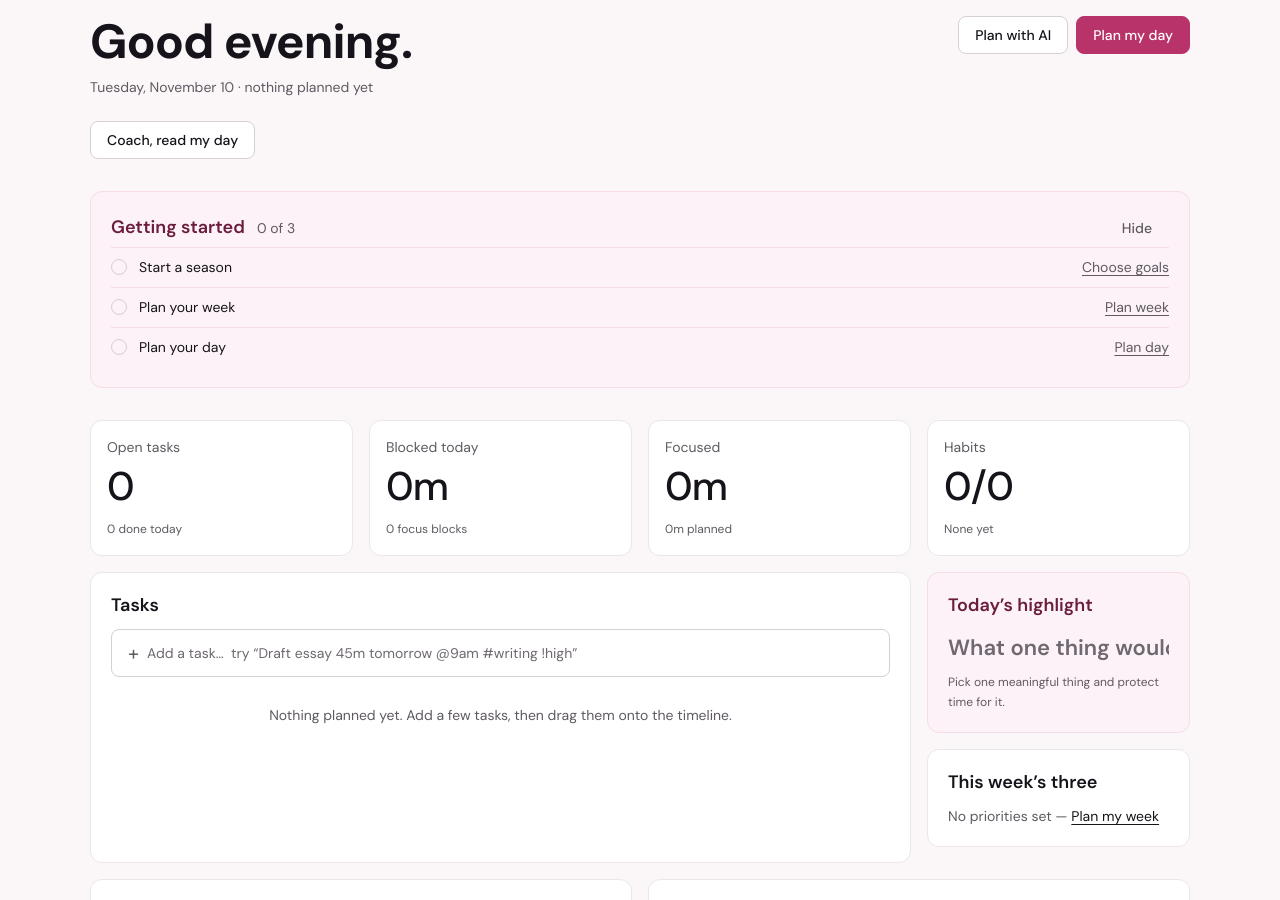
coach with a key › stores and renders the daily note after a click
The width and height of the screenshot is (1280, 900).
Click the button "Coach, read my day" at (173, 140), box 90,121 -> 255,159
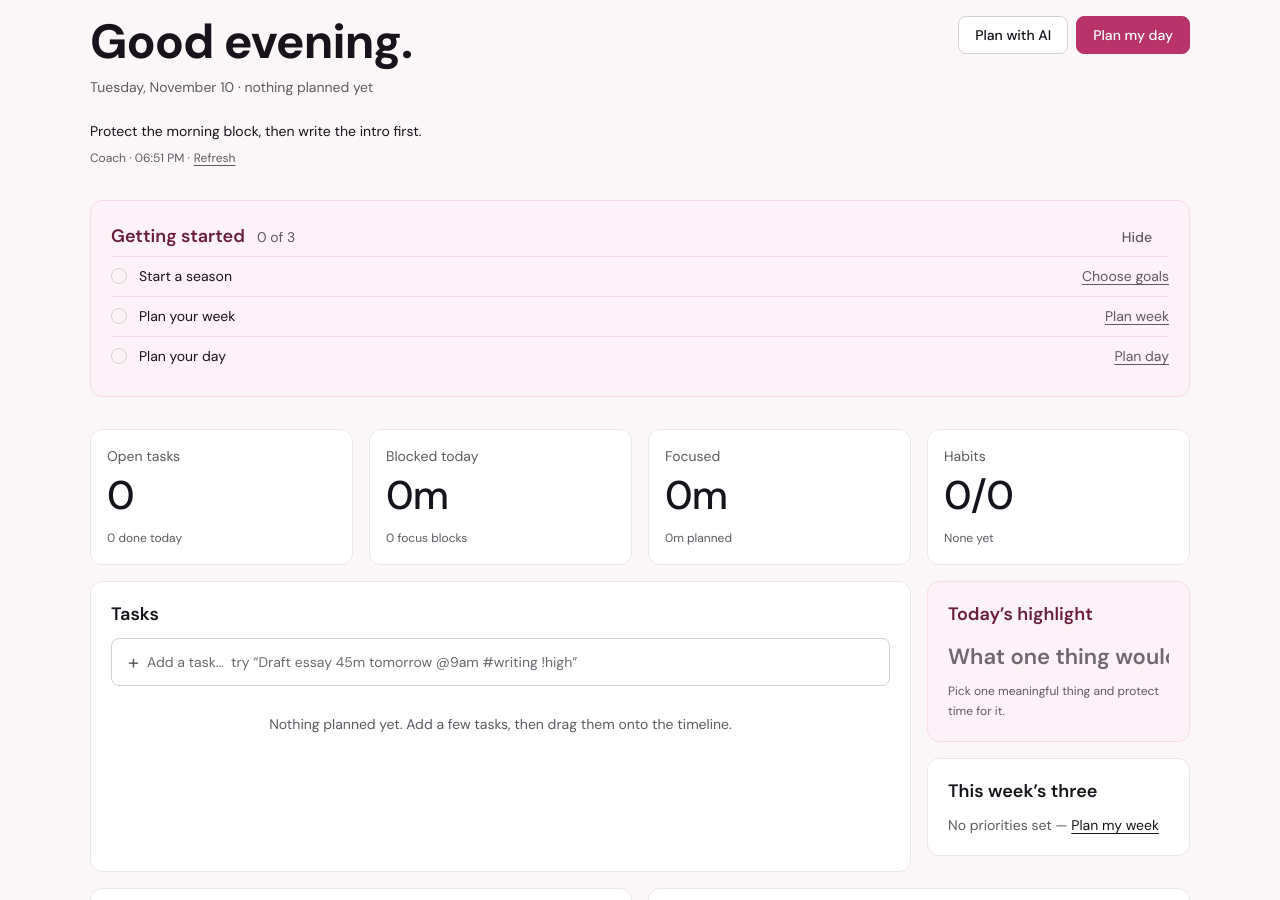
Expected: the text "Protect the morning block, then write the intro first." is shown, 90,122 -> 422,140
Expected: the button "Refresh" is shown, 194,148 -> 235,168
